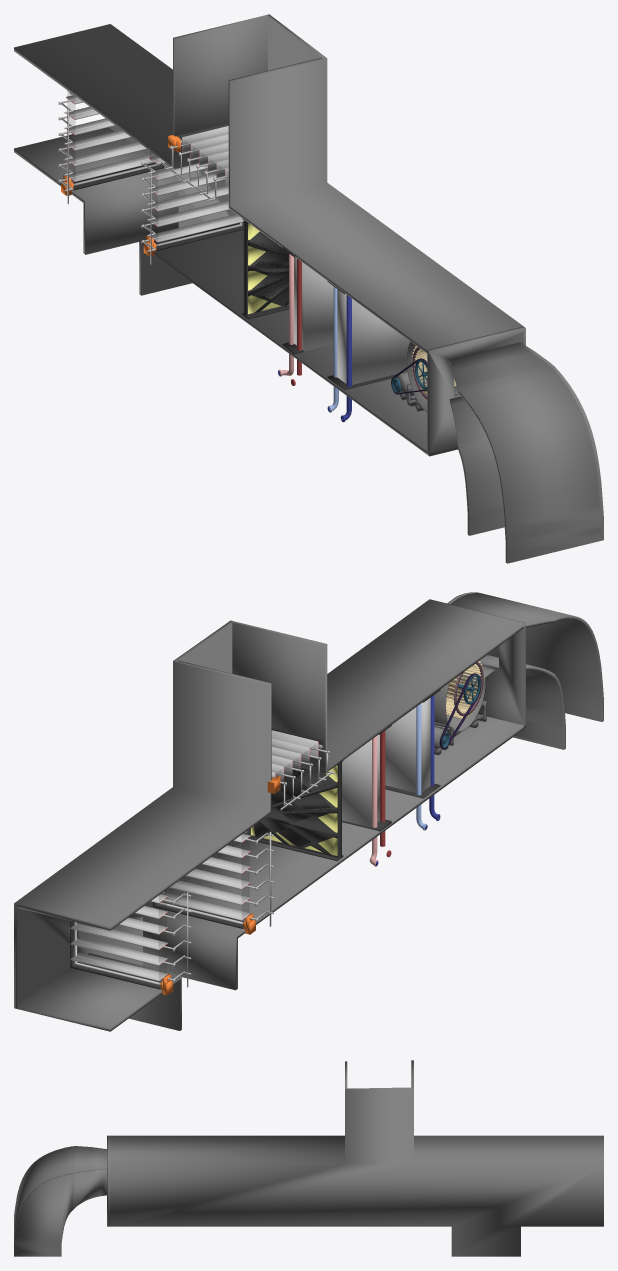
Rendered from rooftopLowpoly7_29_11_raj5.obj.
3 views of the same model, one above another, from view 1: azimuth 30°, elevation 25°; view 2: azimuth 150°, elevation 25°; view 3: azimuth 270°, elevation 25° (orthographic). The views are drawn at different scales.
Parts seen in each view (by area): view 1: group_Ductwork, group_damper, group_Default, group_outer, group_outer-trans, group_filter; view 2: group_Ductwork, group_damper, group_Default, group_outer, group_outer-trans, group_ductwork, group_filter, group_FanBlades, group_pink, group_cyan, group_red, group_actuator (+1 smaller); view 3: group_Ductwork.
Boxes of the visible parts, x1,y1,x2,y2 form: group_Ductwork: [14, 14, 603, 563]; group_damper: [58, 92, 243, 246]; group_Default: [58, 101, 410, 384]; group_outer: [67, 90, 407, 389]; group_outer-trans: [68, 92, 227, 247]; group_filter: [248, 223, 280, 313]; group_Ductwork: [14, 592, 603, 1031]; group_damper: [70, 730, 329, 985]; group_Default: [172, 698, 430, 987]; group_outer: [70, 689, 440, 989]; group_outer-trans: [159, 741, 321, 986]; group_ductwork: [434, 666, 494, 732]; group_filter: [251, 765, 337, 855]; group_FanBlades: [446, 661, 484, 719]; group_pink: [369, 736, 378, 866]; group_cyan: [416, 703, 426, 830]; group_red: [380, 731, 391, 857]; group_actuator: [160, 775, 280, 995]; group_Ductwork: [14, 1060, 603, 1256].
Size of the model in its own units: 2.07 by 4.99 by 15.9.
